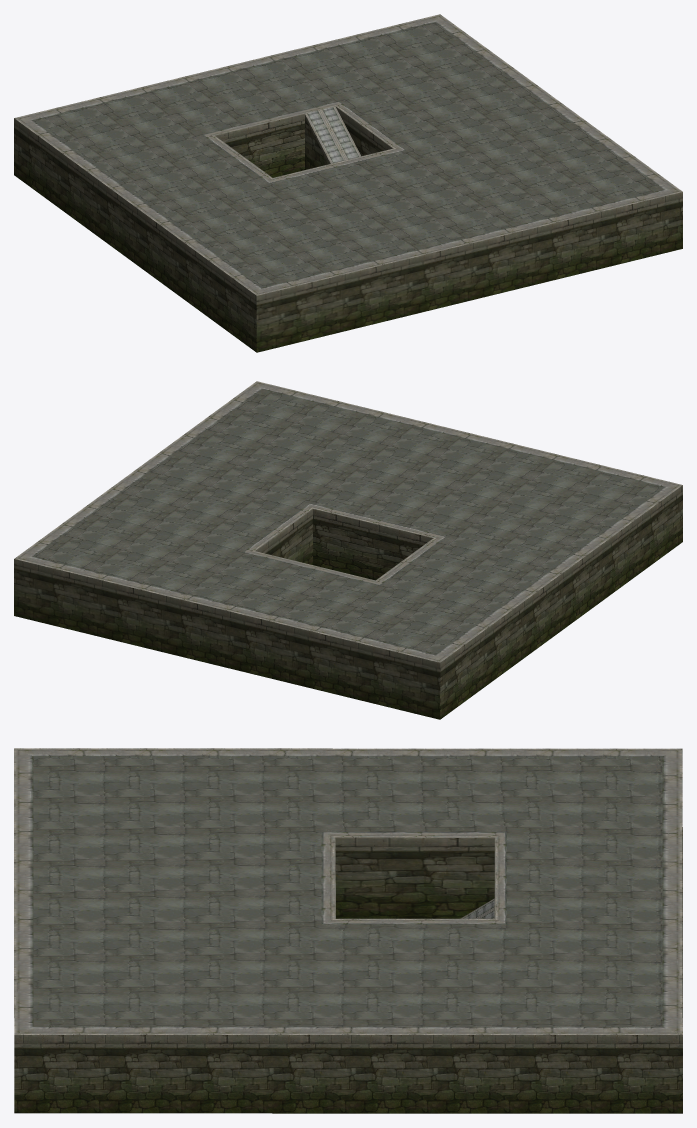
The model's file is environment_building_pingtai_004_a.FBX.
3 views of the same model, one above another, from view 1: azimuth 30°, elevation 25°; view 2: azimuth 150°, elevation 25°; view 3: azimuth 270°, elevation 25° (orthographic). The views are drawn at different scales.
Visible parts, largest first — view 1: environment_building_pingtai_004_a1, environment_building_pingtai_004_a3, environment_building_pingtai_004_a2; view 2: environment_building_pingtai_004_a1, environment_building_pingtai_004_a3, environment_building_pingtai_004_a2; view 3: environment_building_pingtai_004_a1, environment_building_pingtai_004_a3, environment_building_pingtai_004_a2.
Part boxes in pixels (left/top/right/bottom): environment_building_pingtai_004_a1: left=33, top=22, right=663, bottom=287; environment_building_pingtai_004_a3: left=14, top=107, right=682, bottom=352; environment_building_pingtai_004_a2: left=14, top=14, right=682, bottom=295; environment_building_pingtai_004_a1: left=33, top=389, right=663, bottom=654; environment_building_pingtai_004_a3: left=14, top=485, right=682, bottom=719; environment_building_pingtai_004_a2: left=14, top=381, right=682, bottom=662; environment_building_pingtai_004_a1: left=33, top=756, right=662, bottom=1026; environment_building_pingtai_004_a3: left=14, top=748, right=682, bottom=1113; environment_building_pingtai_004_a2: left=14, top=748, right=682, bottom=1034.
Bounding box in the file's own units: 282 × 38.92 × 278.
